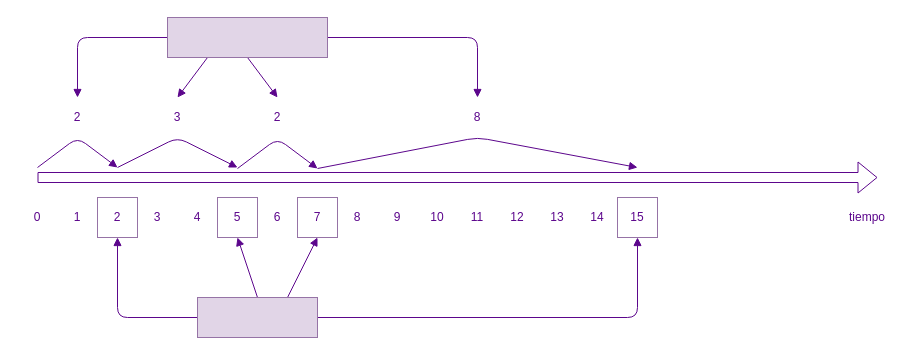
Image size: 924x355. Some labels were removed from this diagram. Each missing label, with the centre of its shape:
Instantes de llegada: point (257, 317)
Tiempos entre llegadas: point (247, 37)
